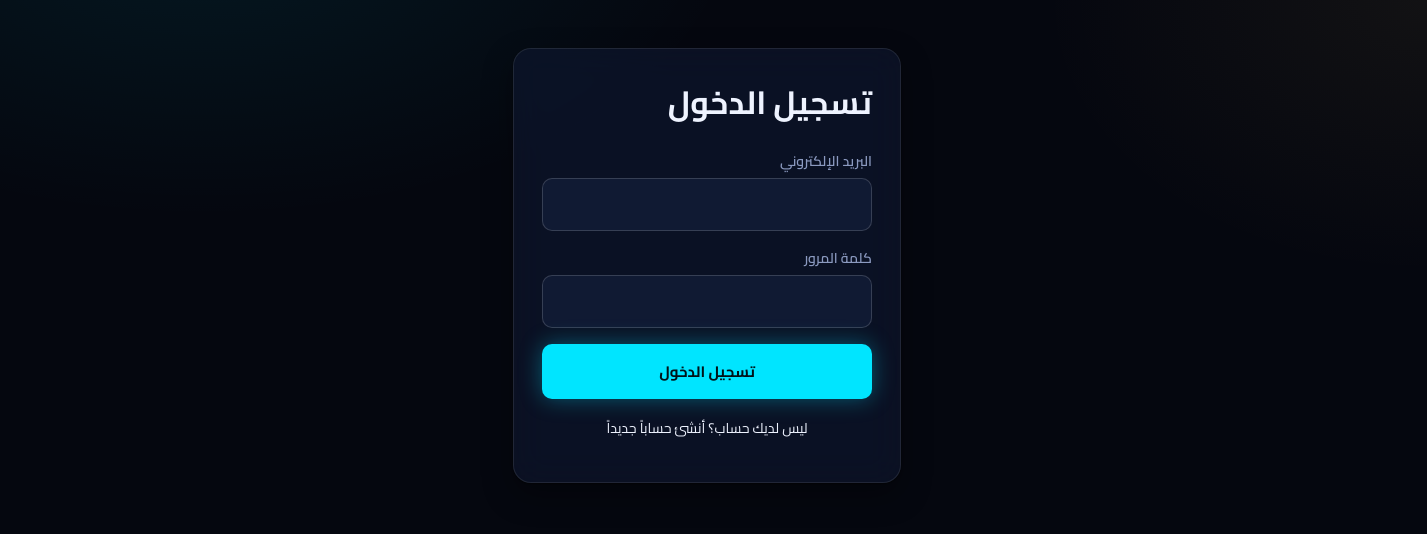
Test: LoginPage › يعرض خطأ عند فشل تسجيل الدخول من السيرفر
Type "wrong@example.com" into the field labelled "البريد الإلكتروني".
click(707, 204); type("wrong@example.com")  # box x1=542 y1=178 x2=872 y2=231
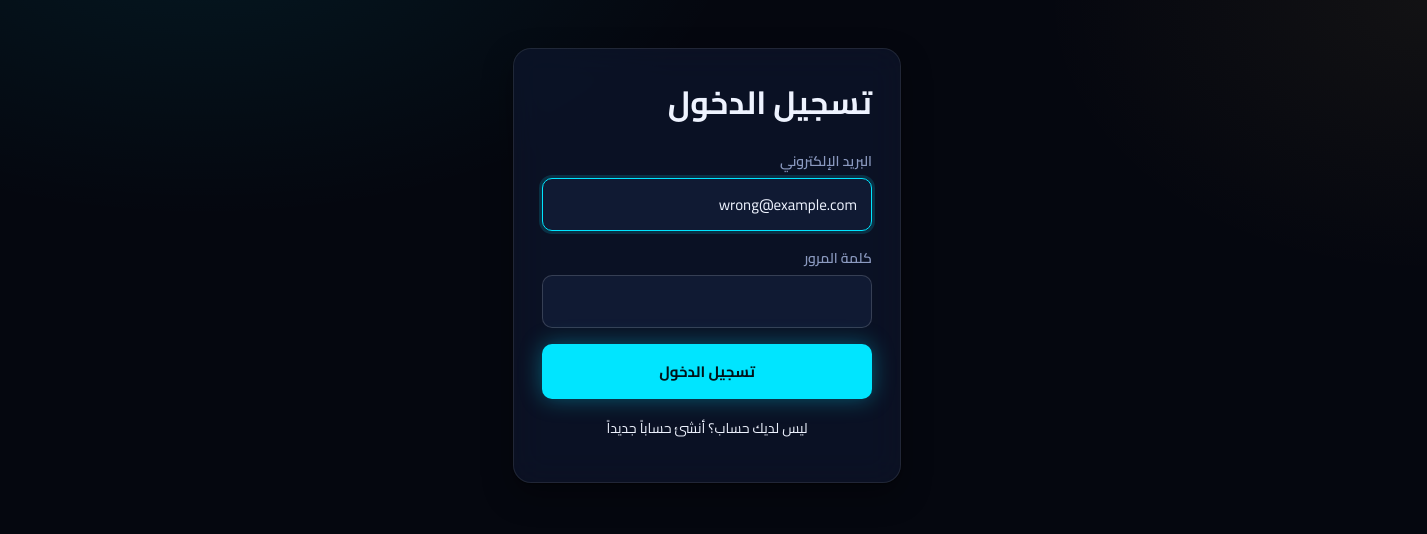
Type "WrongPassword1" into the password field labelled "كلمة المرور".
click(707, 302); type("WrongPassword1")  # box x1=542 y1=275 x2=872 y2=328
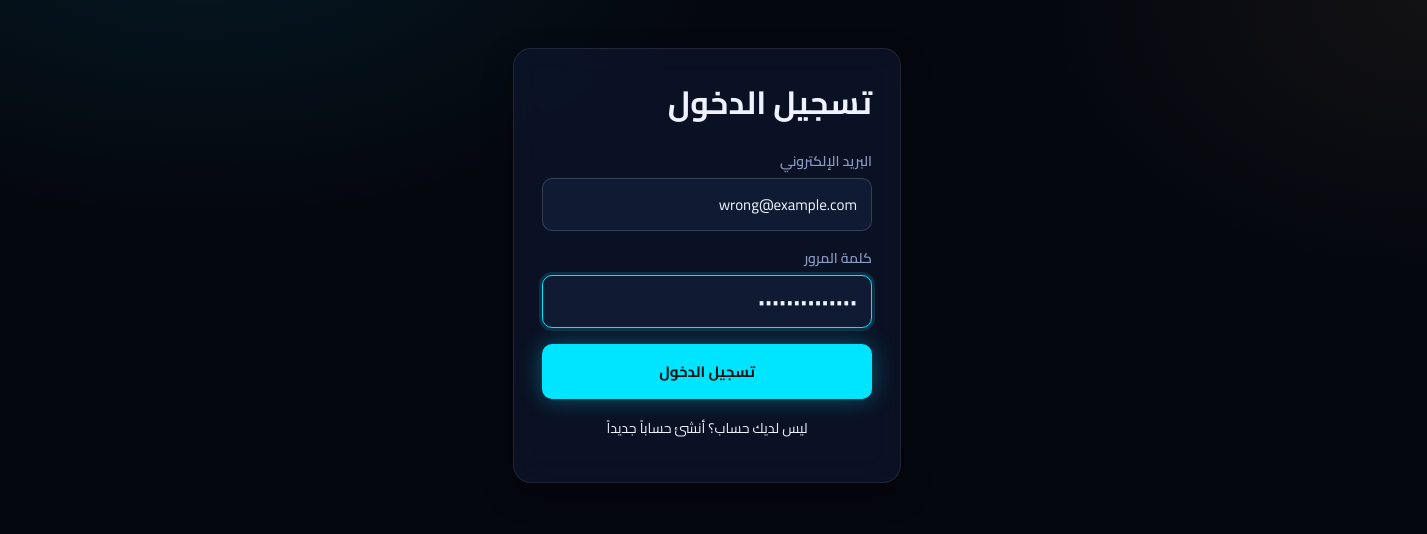
Click the button "تسجيل الدخول".
click(707, 372)  # box x1=542 y1=344 x2=872 y2=399
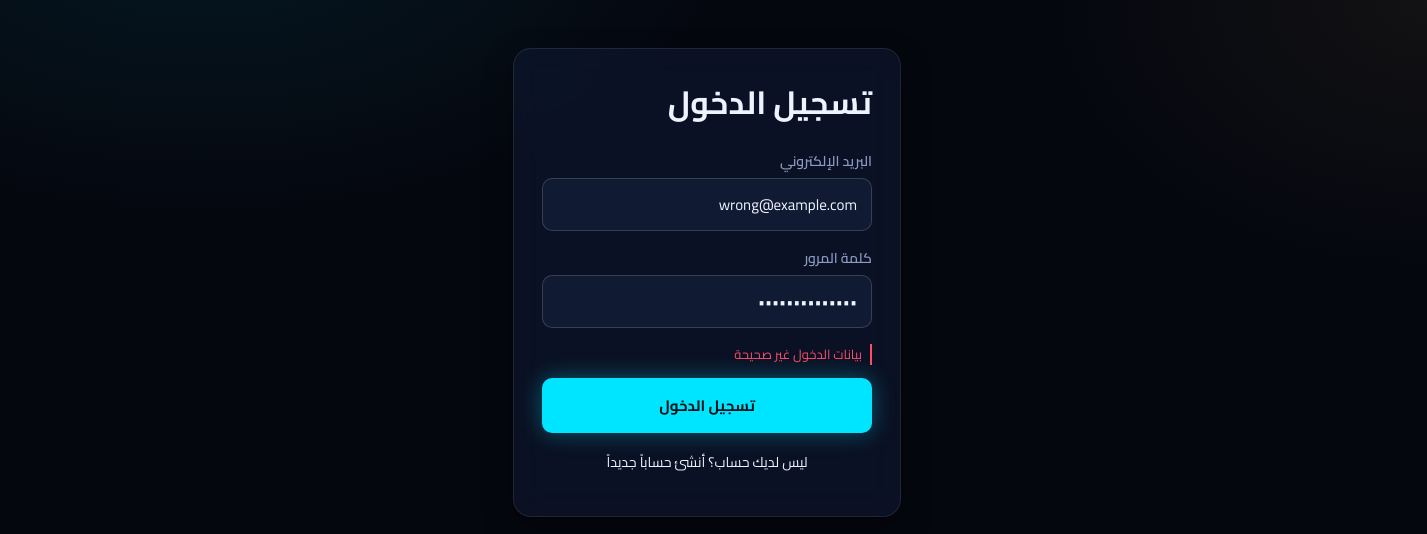
Expected: the text "بيانات الدخول غير صحيحة" is shown, x1=542 y1=344 x2=872 y2=365
